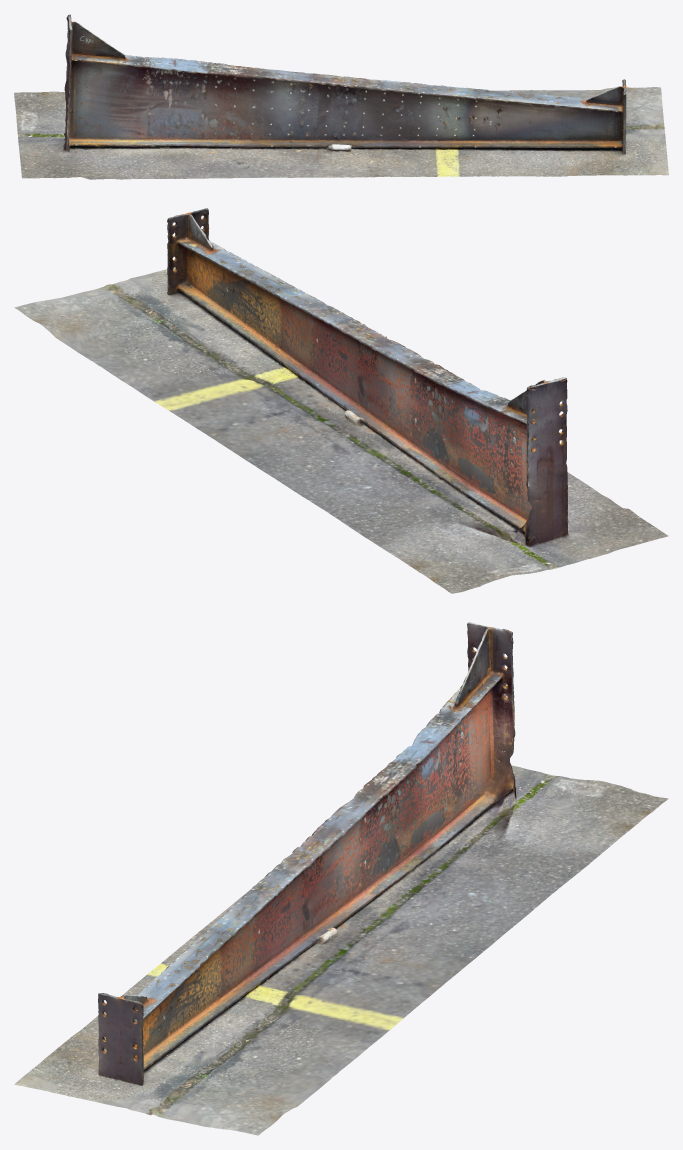
The picture shows the model from 3 angles, top to bottom: view 1: azimuth 30°, elevation 25°; view 2: azimuth 150°, elevation 25°; view 3: azimuth 270°, elevation 25°; orthographic projection. The views are drawn at different scales.
Bounding box in the file's own units: 3.87 × 0.8398 × 2.79.
1 material, 1 textured.
